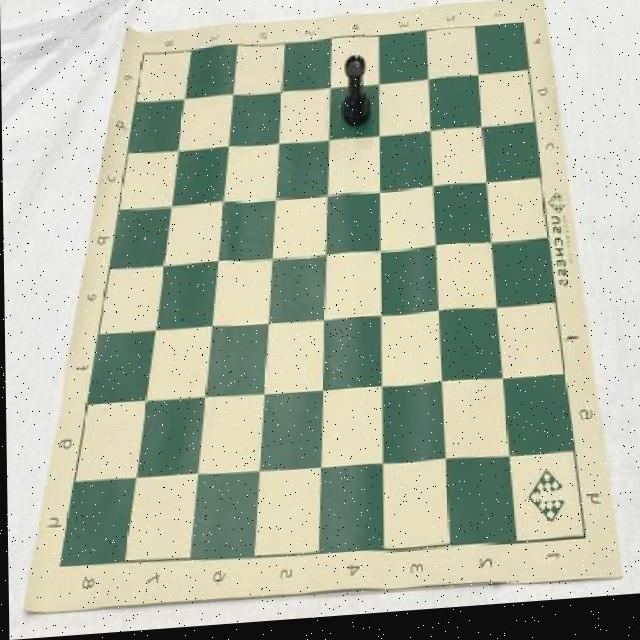black-queen: (341, 60, 371, 134)
